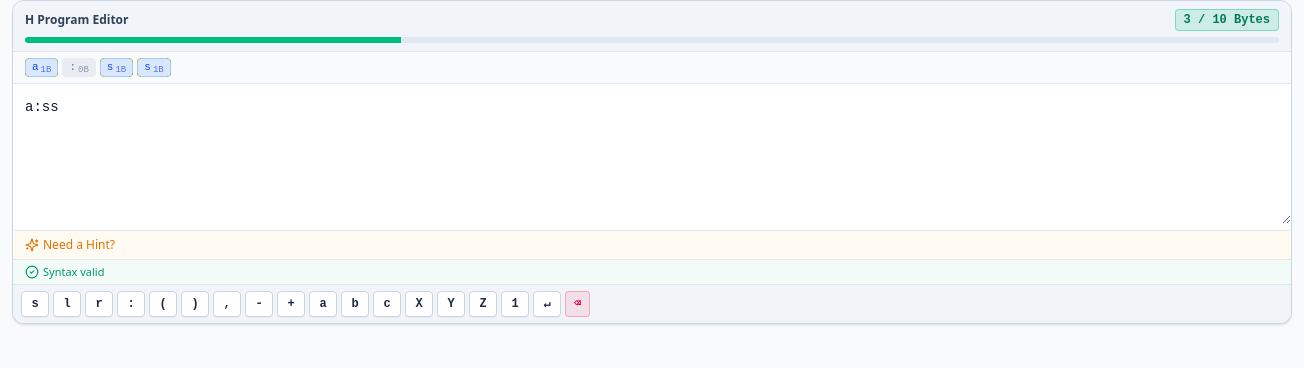
Test case: CodeEditorPanel HintBar › toggles hint visibility and renders full long hint without single-line truncation
Click the button with test id "hint-toggle".
click(70, 244)  # box [25, 236, 115, 252]
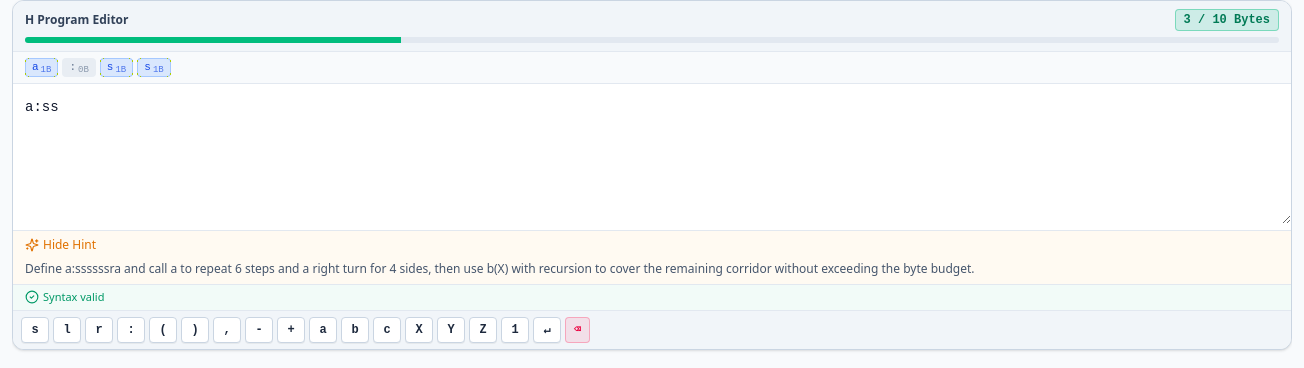
Expected: the button with test id "hint-toggle" reads "Hide Hint"
Expected: the text with test id "hint-text" shows "Define a:ssssssra and call a to repeat 6 steps and a right turn for 4 sides, then use b(X) with recursion to cover the remaining corridor without exceeding the", [25, 260, 974, 276]
Click the button with test id "hint-toggle".
click(60, 244)  # box [25, 236, 96, 252]
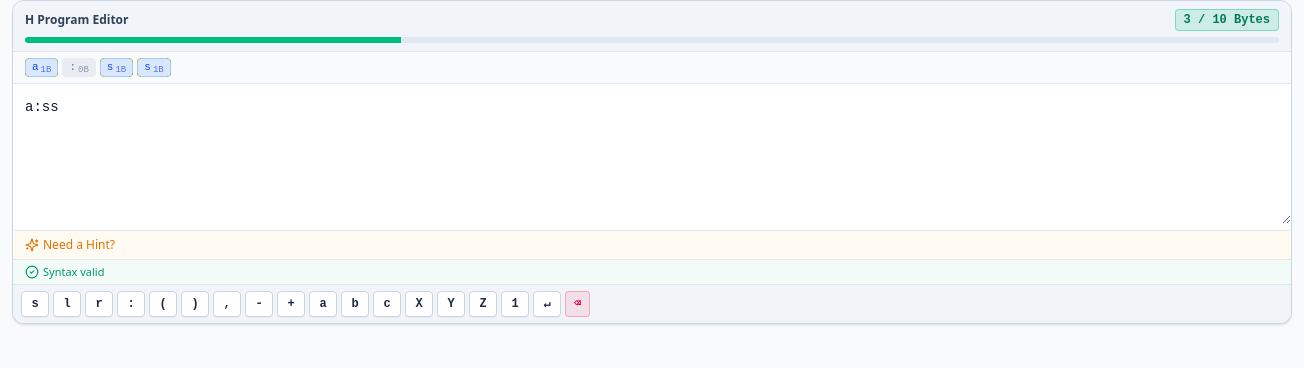
Expected: the button with test id "hint-toggle" reads "Need a Hint?", [25, 236, 115, 252]
Expected: the text with test id "hint-text" is gone
